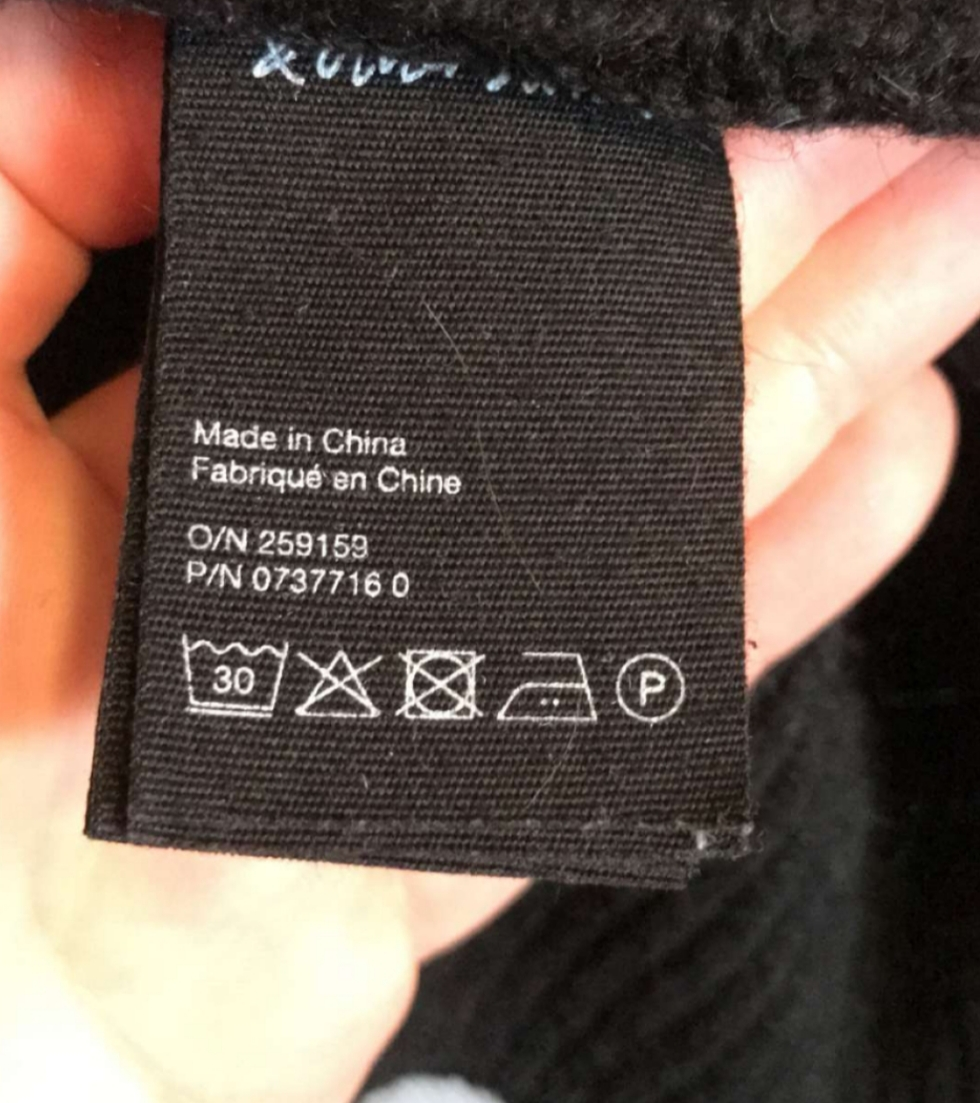do not bleach: (292, 635, 393, 730)
do not tumble dry: (394, 630, 490, 741)
dry clean: (603, 629, 703, 741)
iron medium temp: (489, 621, 606, 741)
wash at or below 30: (172, 621, 292, 725)
